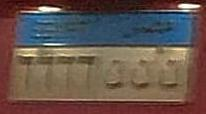6: (55, 54, 75, 91), (77, 54, 96, 90), (35, 54, 54, 89), (16, 53, 33, 91)
noon: (128, 56, 153, 91), (157, 56, 181, 92), (102, 58, 125, 90)
